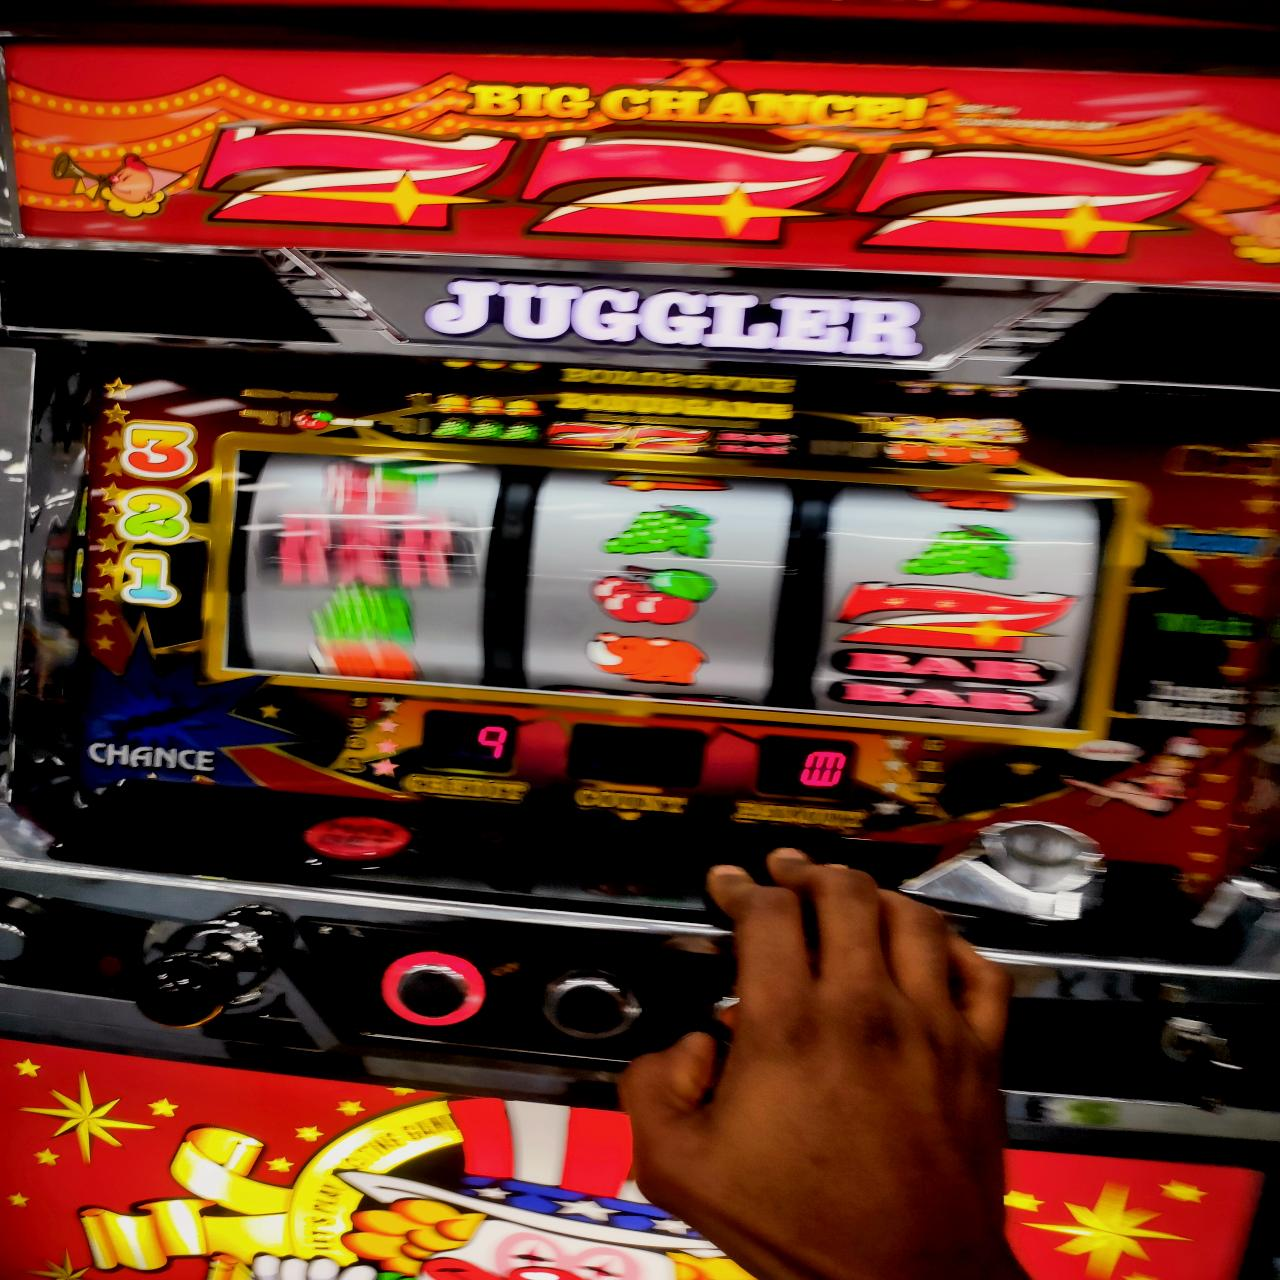7: (831, 583, 1081, 649)
8: (586, 634, 716, 689)
bar: (829, 649, 1067, 719)
cherry: (588, 566, 722, 626)
grape: (598, 499, 715, 560), (898, 523, 1016, 580)
rhino: (241, 444, 1107, 736)
